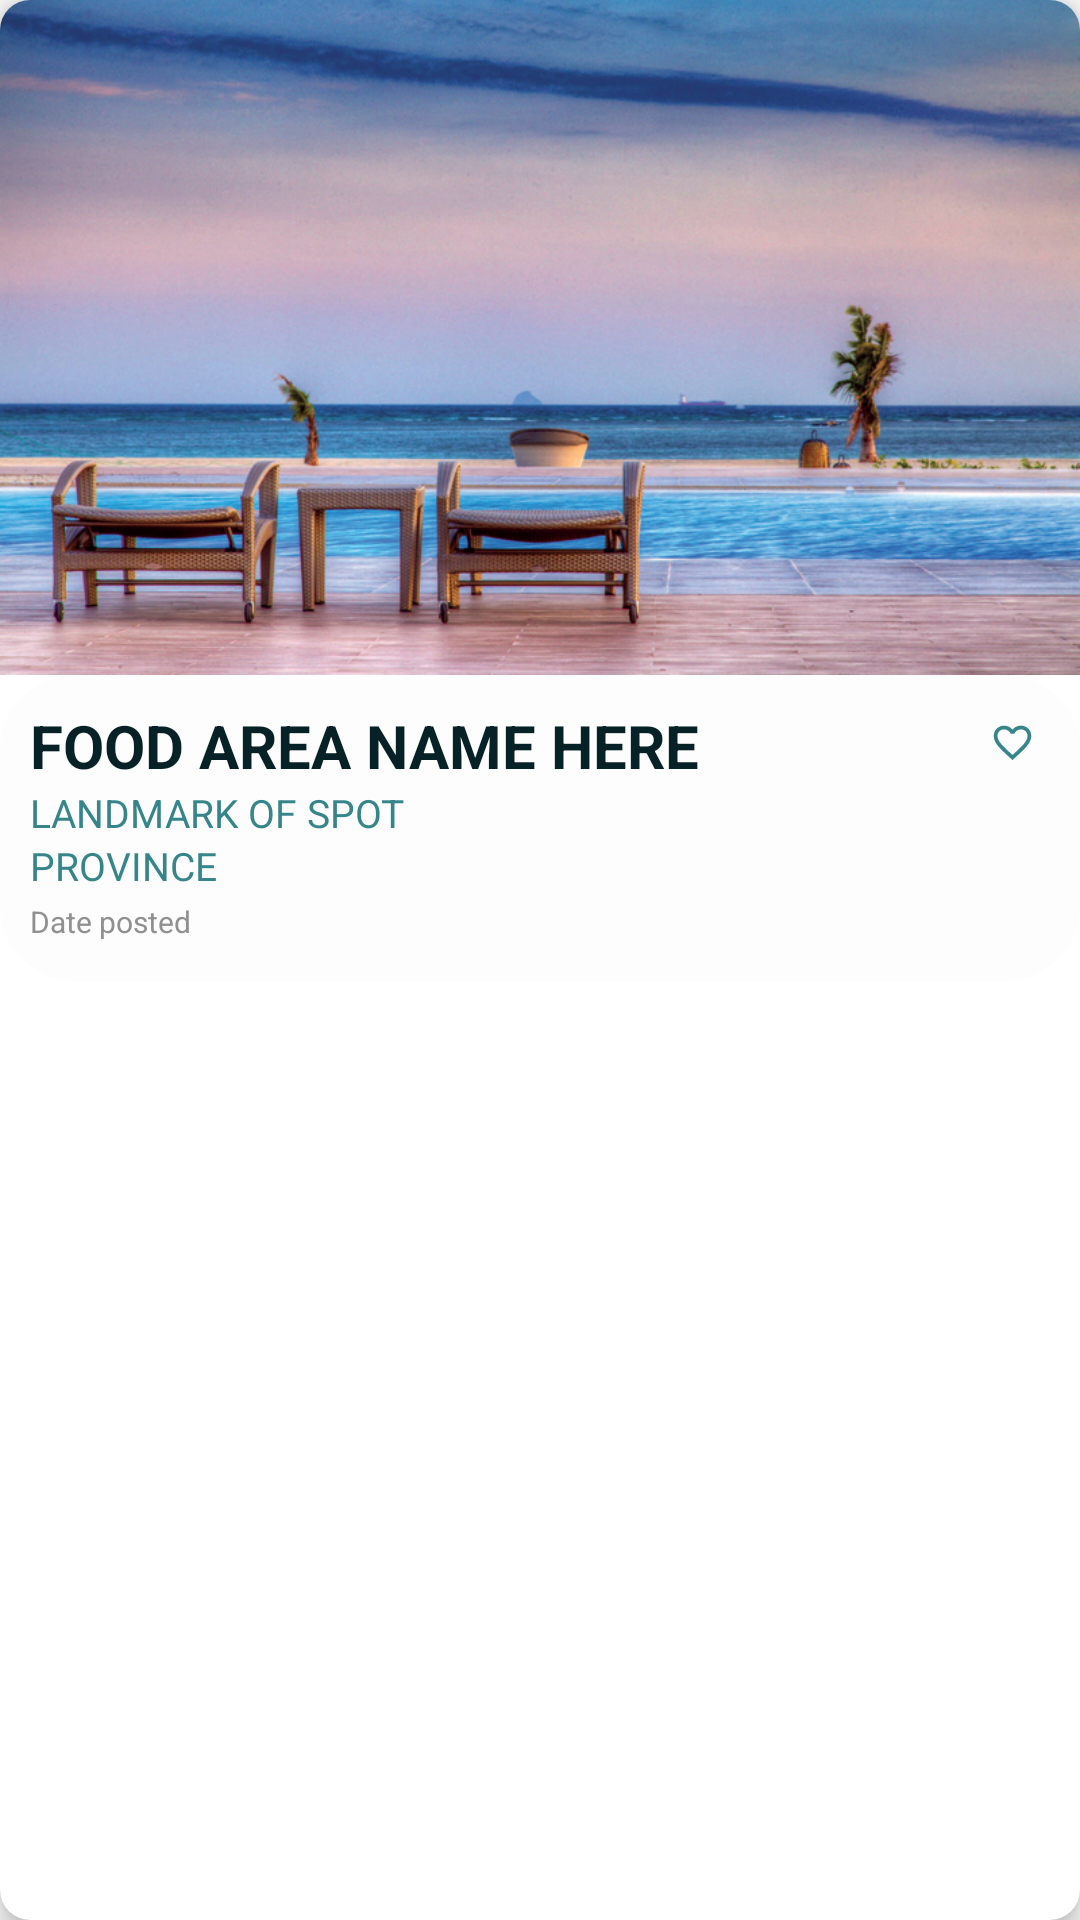

Where to tap for icons on this 1080×1920 app screen, as (x=x, y=y):
heart: (x=1012, y=742)
